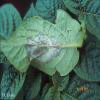Potato leaf late blight: (1, 8, 83, 76)
